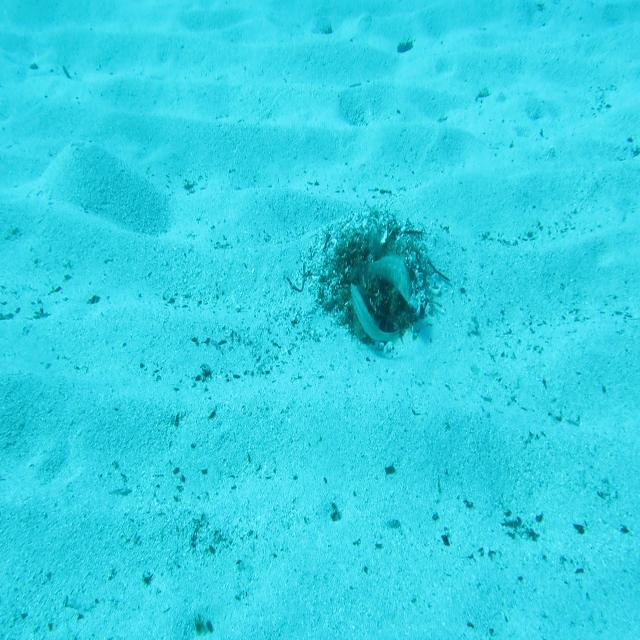DAN_CIRC: (360, 242, 412, 306)
female: (350, 282, 401, 345)
nest: (316, 212, 436, 348)
